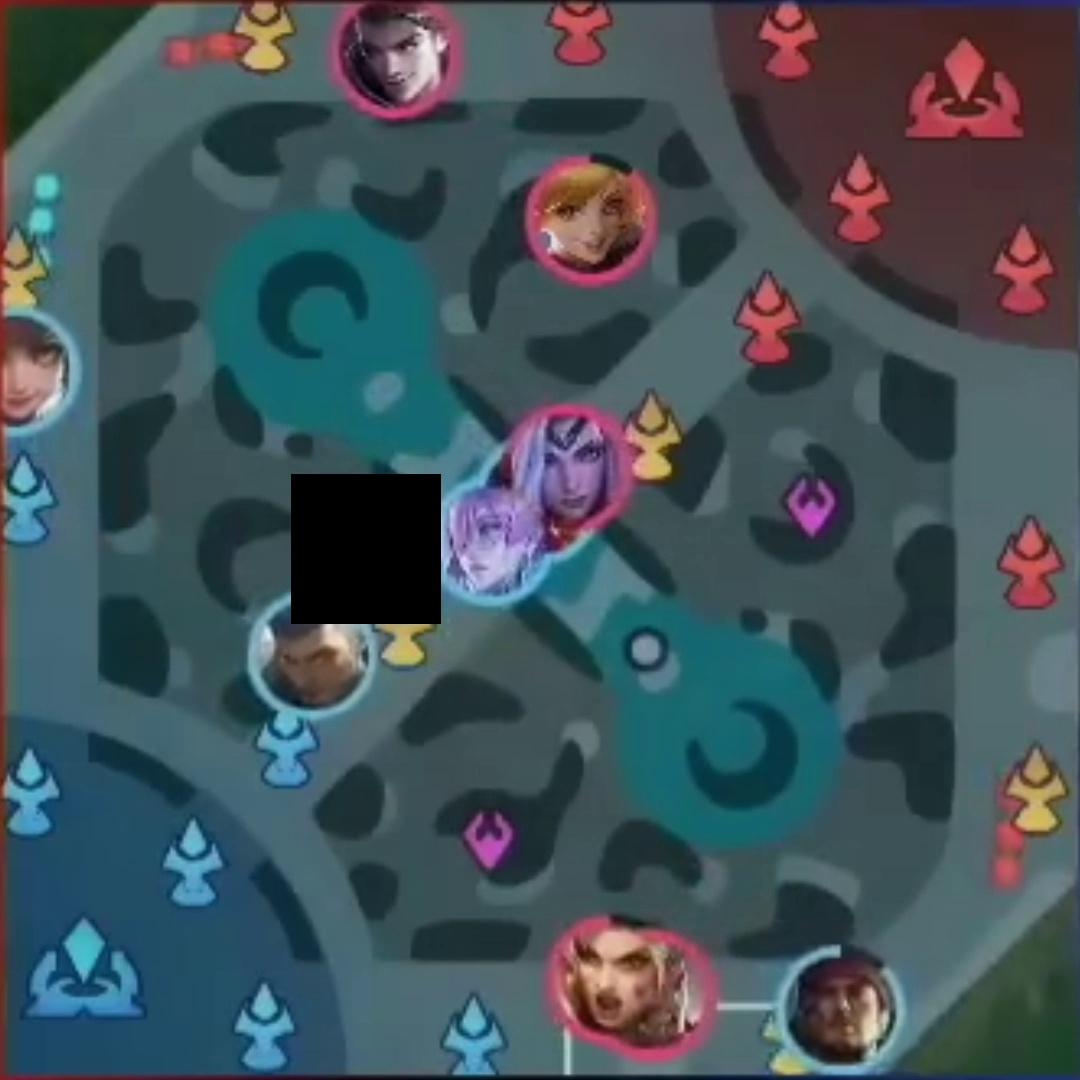Chou: (664, 950, 701, 1041)
Claude: (339, 8, 456, 103)
Fanny: (536, 166, 647, 268)
Fredrinn: (252, 597, 372, 706)
Lapu-Lapu: (790, 951, 891, 1059)
Masha: (565, 934, 658, 1027)
Novaria: (435, 493, 546, 600)
Valentina: (514, 408, 620, 529)
Wanwan: (2, 318, 73, 424)
